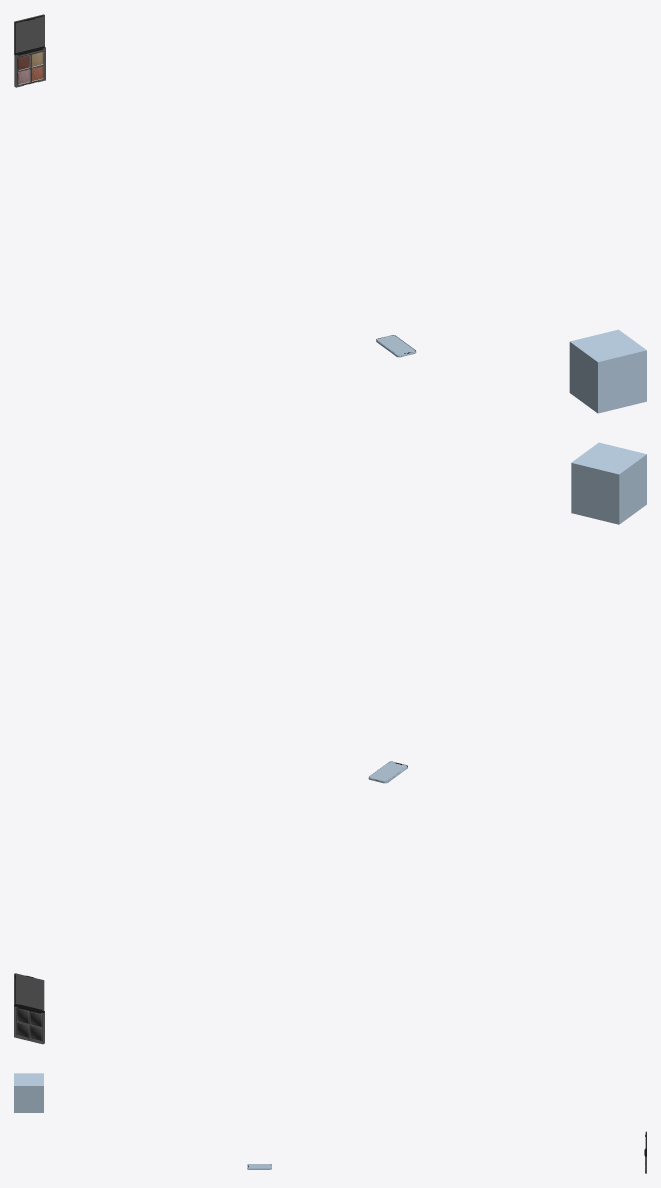
Rendered from data.glb.
3 views of the same model, one above another, from view 1: azimuth 30°, elevation 25°; view 2: azimuth 150°, elevation 25°; view 3: azimuth 270°, elevation 25° (orthographic). The views are drawn at different scales.
Parts seen in each view (by area): view 1: Cube, Cover.002; view 2: Cube, Cover.002, Base.002; view 3: Cube.
Part boxes in pixels (x1=…): Cube: x1=569, y1=329, x2=646, y2=413; Cover.002: x1=14, y1=14, x2=44, y2=55; Cube: x1=571, y1=442, x2=646, y2=524; Cover.002: x1=14, y1=973, x2=44, y2=1012; Base.002: x1=14, y1=1005, x2=44, y2=1044; Cube: x1=14, y1=1073, x2=43, y2=1112.
Size of the model in its own units: 1.21 by 3.95 by 25.66.
27 materials, 6 textured.
